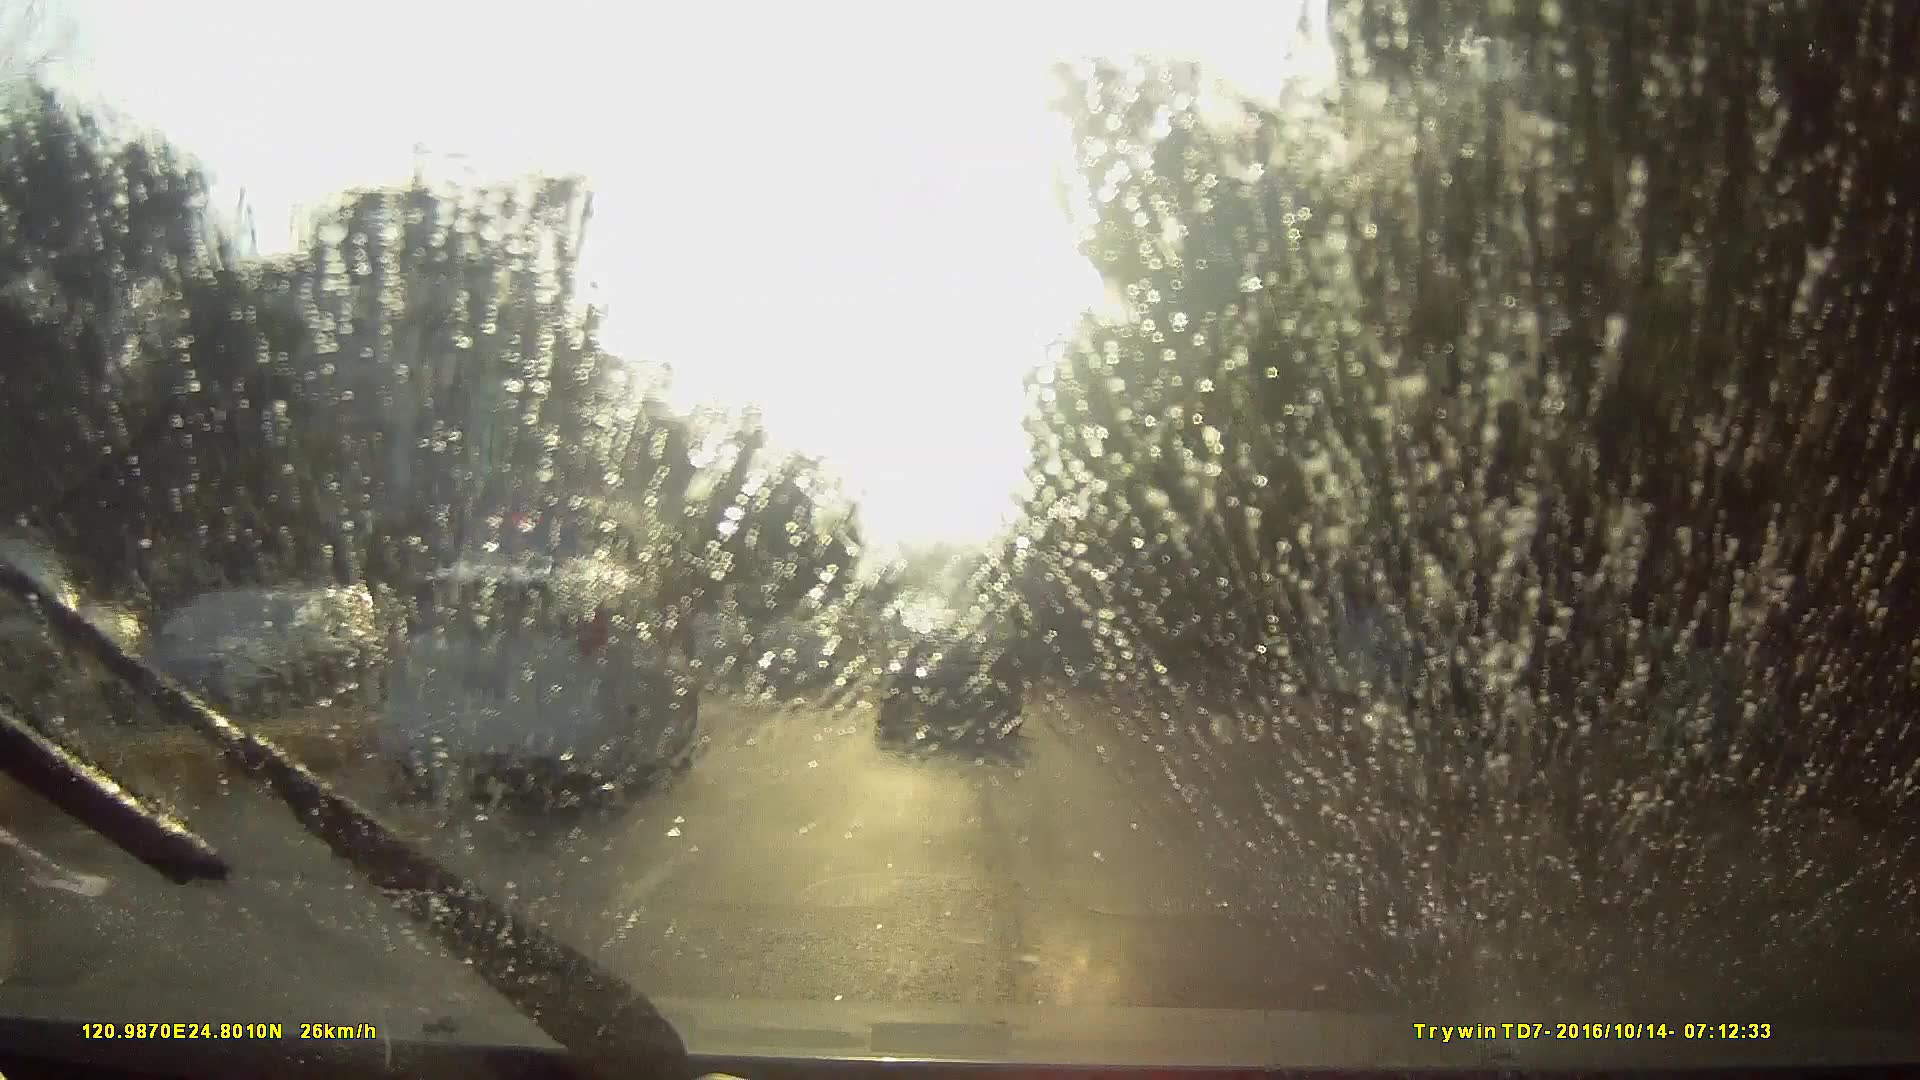vehicle: (251, 556, 684, 868), (389, 550, 702, 793), (415, 480, 713, 688), (876, 601, 1022, 754), (1000, 559, 1104, 684), (738, 615, 848, 700), (866, 638, 915, 687)
